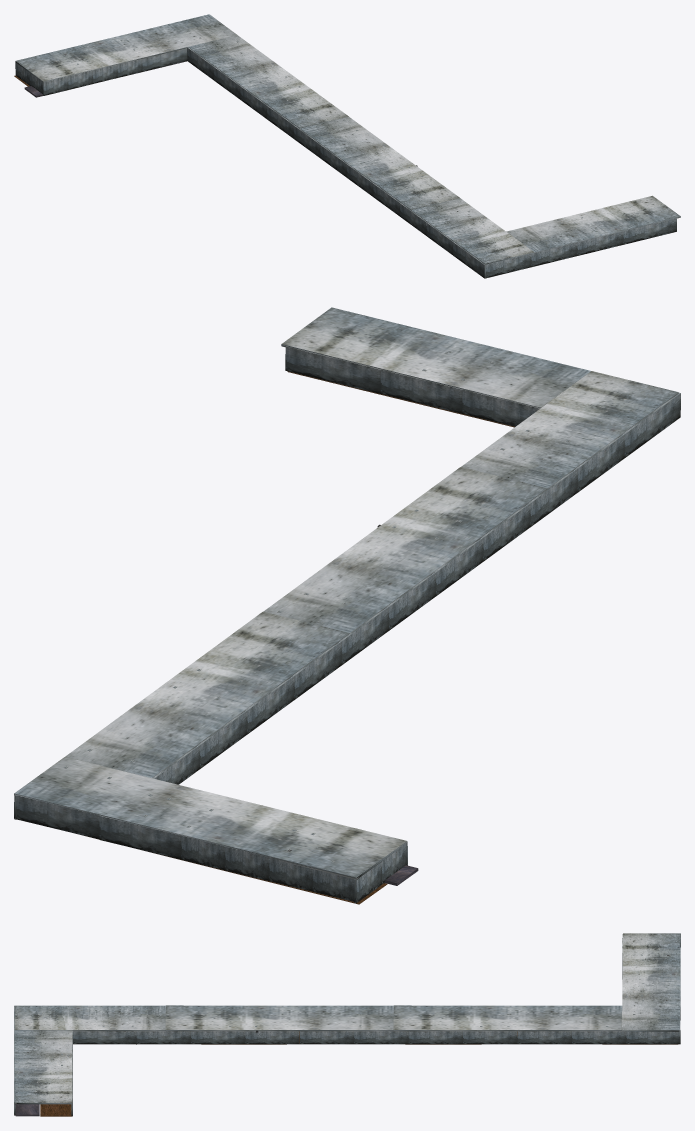
The model's file is PS1Subway.fbx.
The picture shows the model from 3 angles, top to bottom: view 1: azimuth 30°, elevation 25°; view 2: azimuth 150°, elevation 25°; view 3: azimuth 270°, elevation 25°; orthographic projection. The views are drawn at different scales.
Visible parts, largest first — view 1: Cube.240, Cube.241, Cube.242, Cube.244, Cube.243, Cube.215, Cube.213, Cube.214, Cube.212, Cube.199, Cube.211, Cube.202 (+9 smaller); view 2: Cube.240, Cube.241, Cube.242, Cube.244, Cube.243, Cube.237, Cube.236, Cube.238, Cube.234, Cube.239, Cube.211, Cube.209 (+14 smaller); view 3: Cube.241, Cube.242, Cube.240, Cube.244, Cube.243, Cube.216, Cube.224, Cube.221, Cube.225, Cube.223, Cube.222, Cube.218 (+6 smaller).
Boxes of the visible parts, x1=… form: Cube.240: x1=15, y1=14, x2=236, y2=81; Cube.241: x1=188, y1=35, x2=348, y2=128; Cube.242: x1=299, y1=116, x2=459, y2=210; Cube.244: x1=506, y1=195, x2=680, y2=252; Cube.243: x1=411, y1=198, x2=534, y2=264; Cube.215: x1=623, y1=218, x2=676, y2=244; Cube.213: x1=531, y1=242, x2=577, y2=267; Cube.214: x1=577, y1=231, x2=623, y2=255; Cube.212: x1=485, y1=253, x2=531, y2=278; Cube.199: x1=142, y1=48, x2=187, y2=71; Cube.211: x1=453, y1=242, x2=485, y2=278; Cube.202: x1=213, y1=66, x2=240, y2=99; Cube.240: x1=14, y1=757, x2=407, y2=879; Cube.241: x1=65, y1=611, x2=349, y2=778; Cube.242: x1=263, y1=467, x2=547, y2=633; Cube.244: x1=281, y1=307, x2=590, y2=408; Cube.243: x1=461, y1=371, x2=678, y2=488; Cube.237: x1=285, y1=346, x2=380, y2=393; Cube.236: x1=16, y1=795, x2=100, y2=839; Cube.238: x1=380, y1=369, x2=462, y2=413; Cube.234: x1=99, y1=815, x2=181, y2=859; Cube.239: x1=462, y1=389, x2=540, y2=426; Cube.211: x1=624, y1=392, x2=680, y2=457; Cube.209: x1=529, y1=468, x2=577, y2=527; Cube.241: x1=393, y1=1005, x2=622, y2=1031; Cube.242: x1=165, y1=1005, x2=393, y2=1031; Cube.240: x1=622, y1=933, x2=680, y2=1031; Cube.244: x1=14, y1=1030, x2=72, y2=1104; Cube.243: x1=14, y1=1005, x2=165, y2=1031; Cube.216: x1=72, y1=1031, x2=136, y2=1044; Cube.224: x1=517, y1=1031, x2=571, y2=1044; Cube.221: x1=354, y1=1031, x2=408, y2=1044; Cube.225: x1=572, y1=1031, x2=626, y2=1044; Cube.223: x1=463, y1=1031, x2=517, y2=1044; Cube.222: x1=408, y1=1031, x2=462, y2=1044; Cube.218: x1=191, y1=1031, x2=245, y2=1044.
Size of the model in its own units: 20043 by 845 by 32637.
